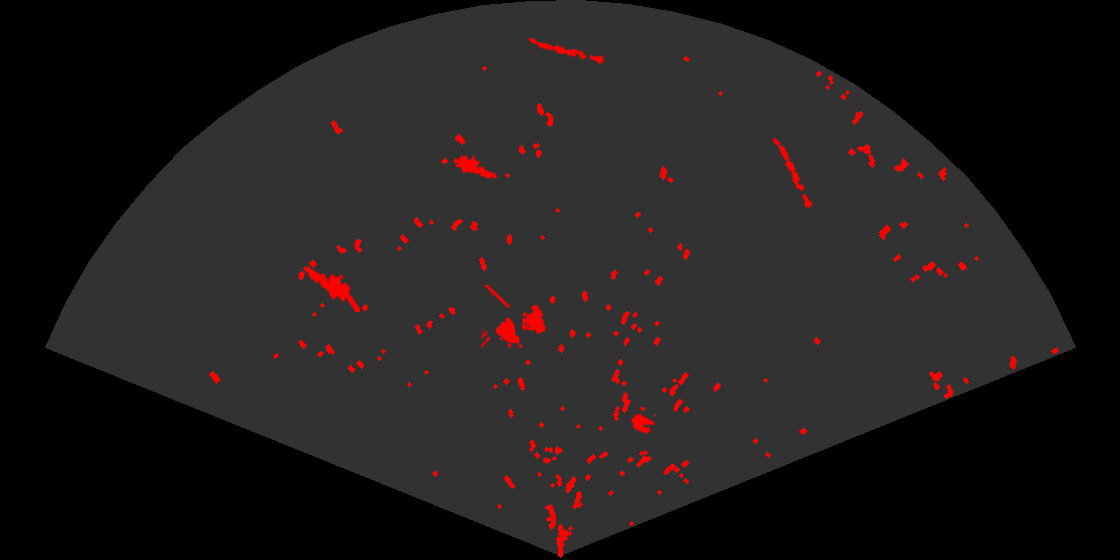ball: (630, 405, 658, 435)
cage: (481, 285, 548, 350)
chain: (771, 136, 814, 211), (526, 36, 606, 66)
frogman: (302, 264, 360, 312), (454, 154, 498, 181)
